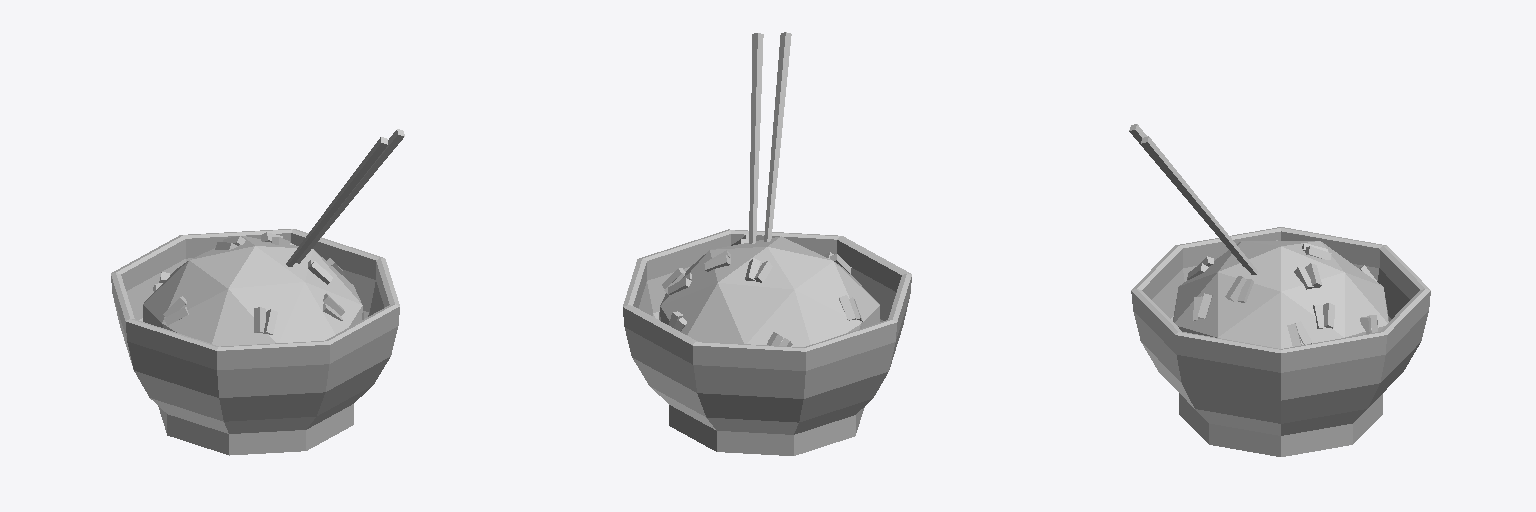
File: rice.obj
3 renders of one model, left to right at view 1: azimuth 30°, elevation 25°; view 2: azimuth 150°, elevation 25°; view 3: azimuth 270°, elevation 25°, orthographic.
Parts seen in each view (by area): view 1: Bowl_of_Rice_Cube.024; view 2: Bowl_of_Rice_Cube.024; view 3: Bowl_of_Rice_Cube.024.
Part boxes in pixels (bbox=[...]): Bowl_of_Rice_Cube.024: bbox=[111, 129, 404, 455]; Bowl_of_Rice_Cube.024: bbox=[623, 32, 911, 455]; Bowl_of_Rice_Cube.024: bbox=[1129, 124, 1430, 456].
Bounding box in the file's own units: 8.84 × 10.31 × 8.91.